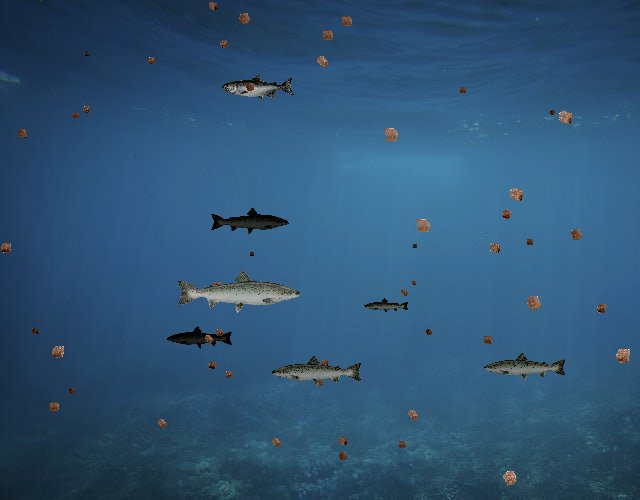Fish: (174, 268, 303, 314), (271, 355, 365, 388), (482, 351, 568, 382), (209, 206, 290, 235), (223, 74, 296, 100), (166, 325, 234, 350), (363, 297, 410, 314)
Pellet: (608, 340, 638, 370), (310, 49, 334, 73), (232, 6, 256, 30), (12, 123, 33, 144), (214, 35, 233, 54), (203, 0, 222, 16), (78, 102, 94, 118), (546, 106, 559, 119), (29, 326, 41, 338)
